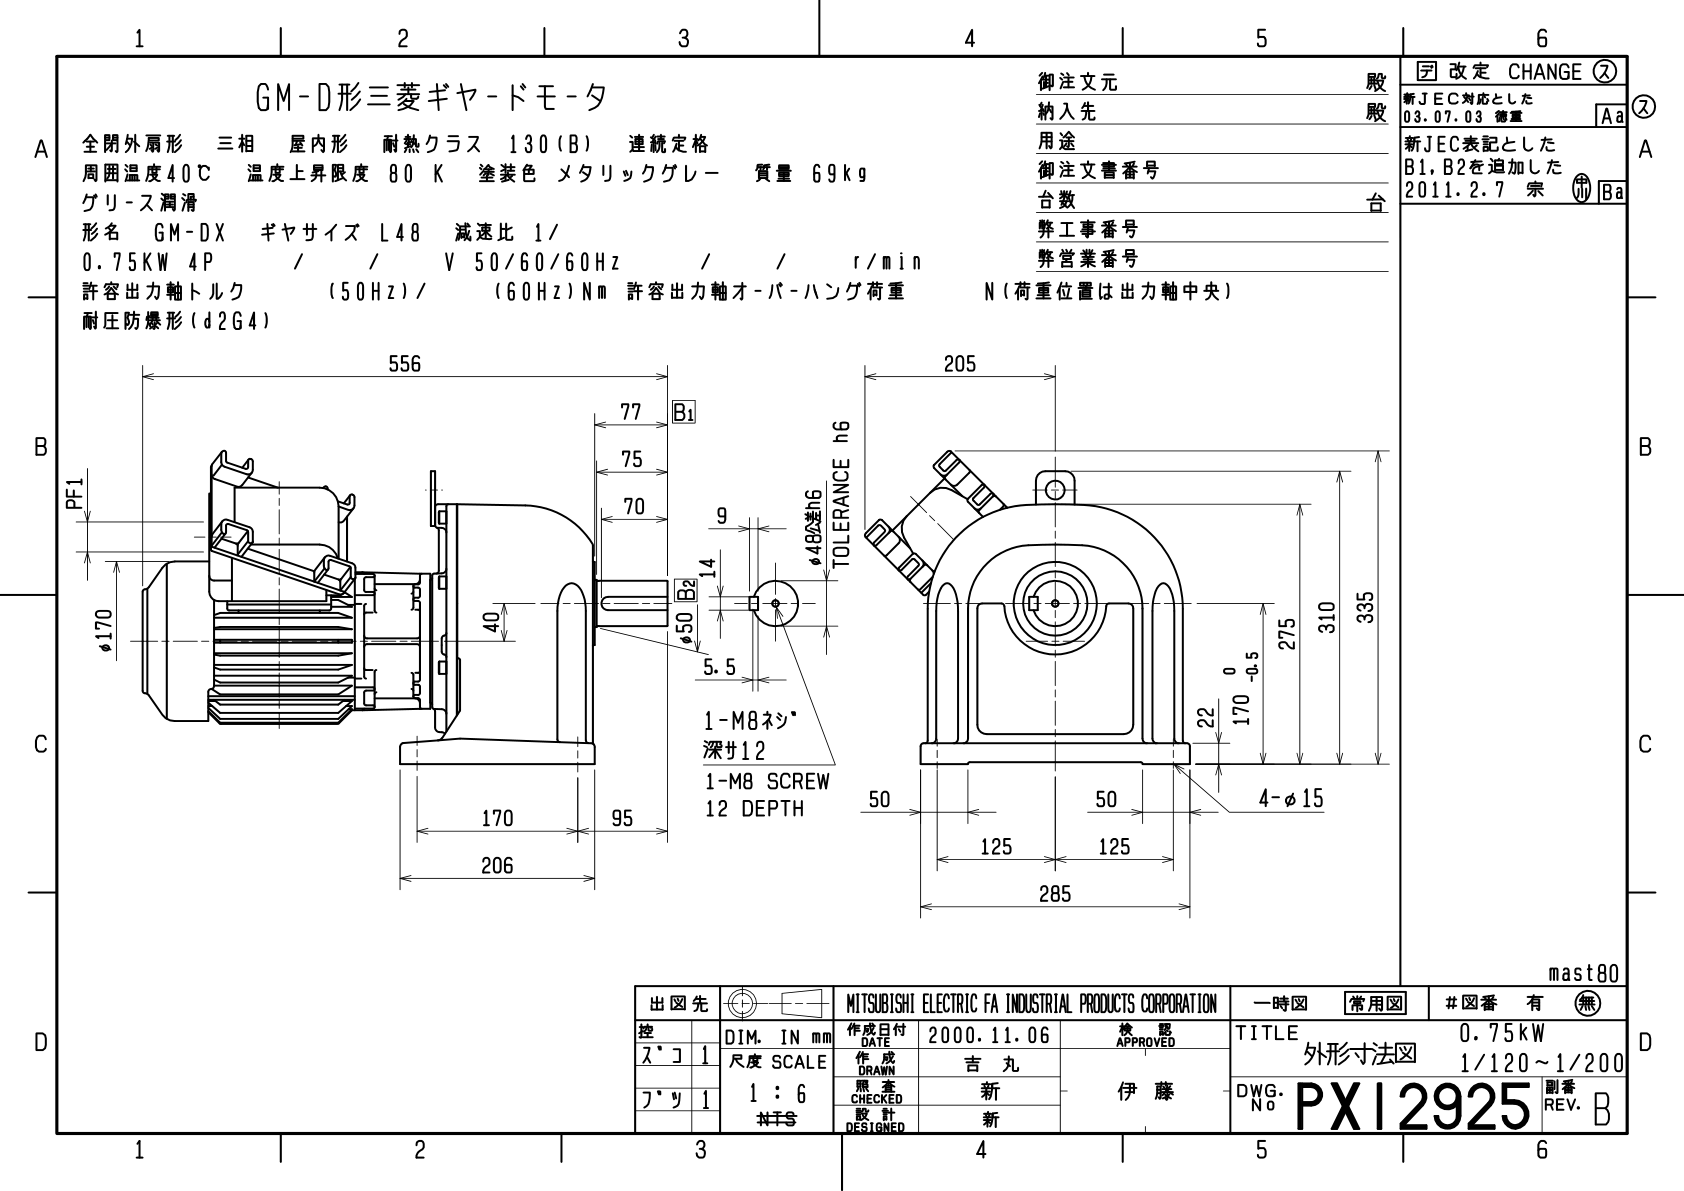GM_D_耐圧屋内_三相_脚: (63, 342, 1392, 934)
